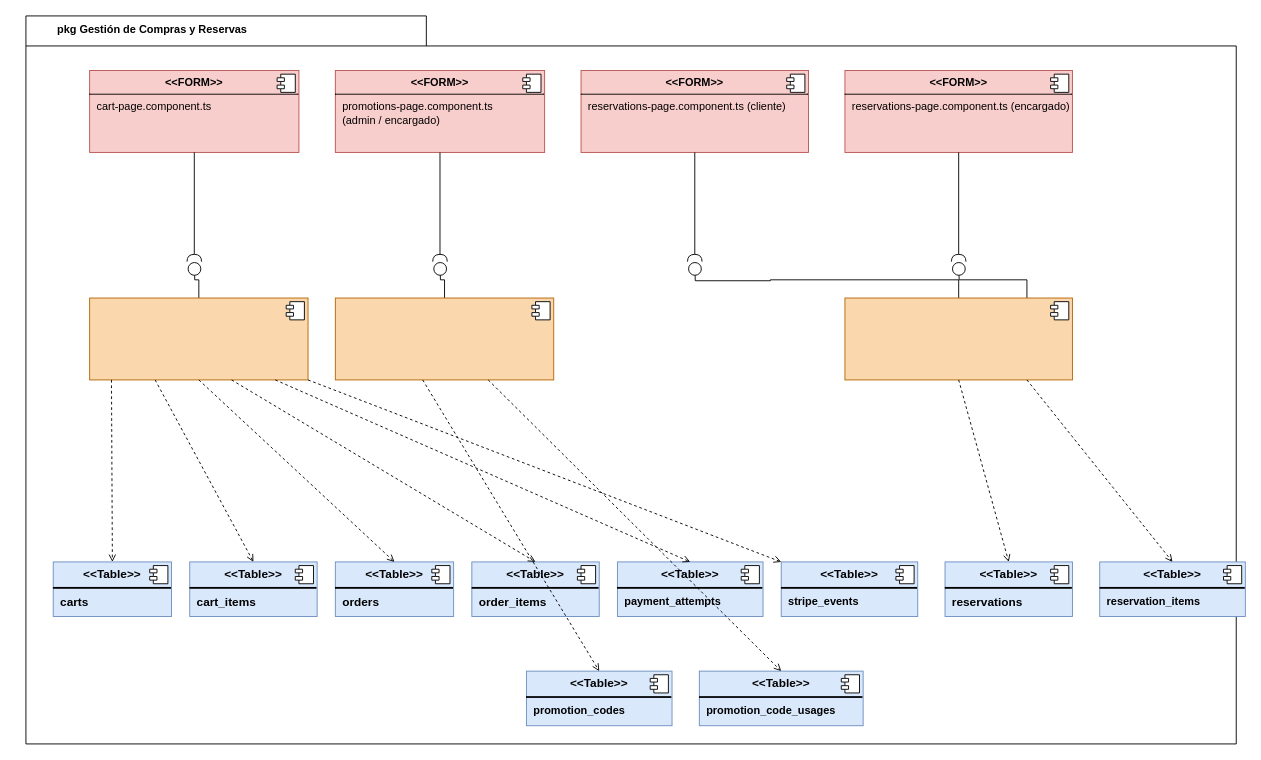
This 1261x760 diagram has some shape labels left out. The shapes that lost their labels are listed below. From the top down, each one's centre as x and y in pixels, then its label:
point 198,338: <<CLASS>> cart-api.service.ts checkout-api.service.ts
point 444,338: <<CLASS>> promotion-api.service.ts
point 958,338: <<CLASS>> reservation-api.service.ts
